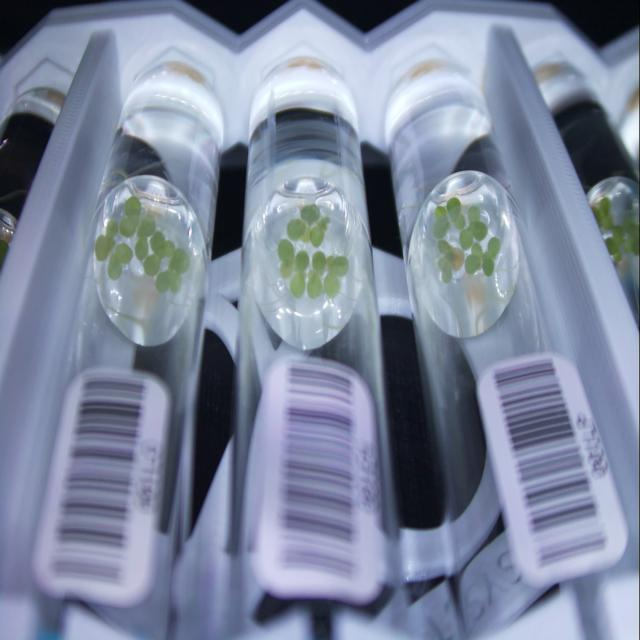Lemna-Gibba: (439, 240, 465, 270), (482, 237, 500, 277), (169, 248, 190, 274), (465, 242, 482, 274), (434, 207, 450, 239), (95, 235, 114, 260), (306, 270, 322, 299), (286, 218, 306, 240), (324, 272, 340, 299), (301, 203, 320, 225), (331, 255, 349, 277), (290, 272, 305, 298), (278, 238, 294, 262), (119, 217, 138, 237), (438, 257, 452, 284), (150, 230, 165, 255), (108, 254, 122, 280), (470, 220, 488, 240), (115, 243, 132, 264), (144, 254, 161, 275), (139, 215, 155, 237), (446, 197, 461, 220), (155, 270, 170, 292), (310, 225, 325, 247), (135, 237, 149, 260), (312, 252, 326, 274), (460, 228, 474, 250), (124, 197, 141, 215), (295, 250, 309, 270), (280, 260, 294, 279), (169, 270, 181, 292), (105, 218, 118, 238), (468, 205, 480, 222), (454, 213, 465, 230), (164, 240, 175, 256), (318, 217, 330, 230), (301, 228, 312, 242), (326, 255, 335, 272)
